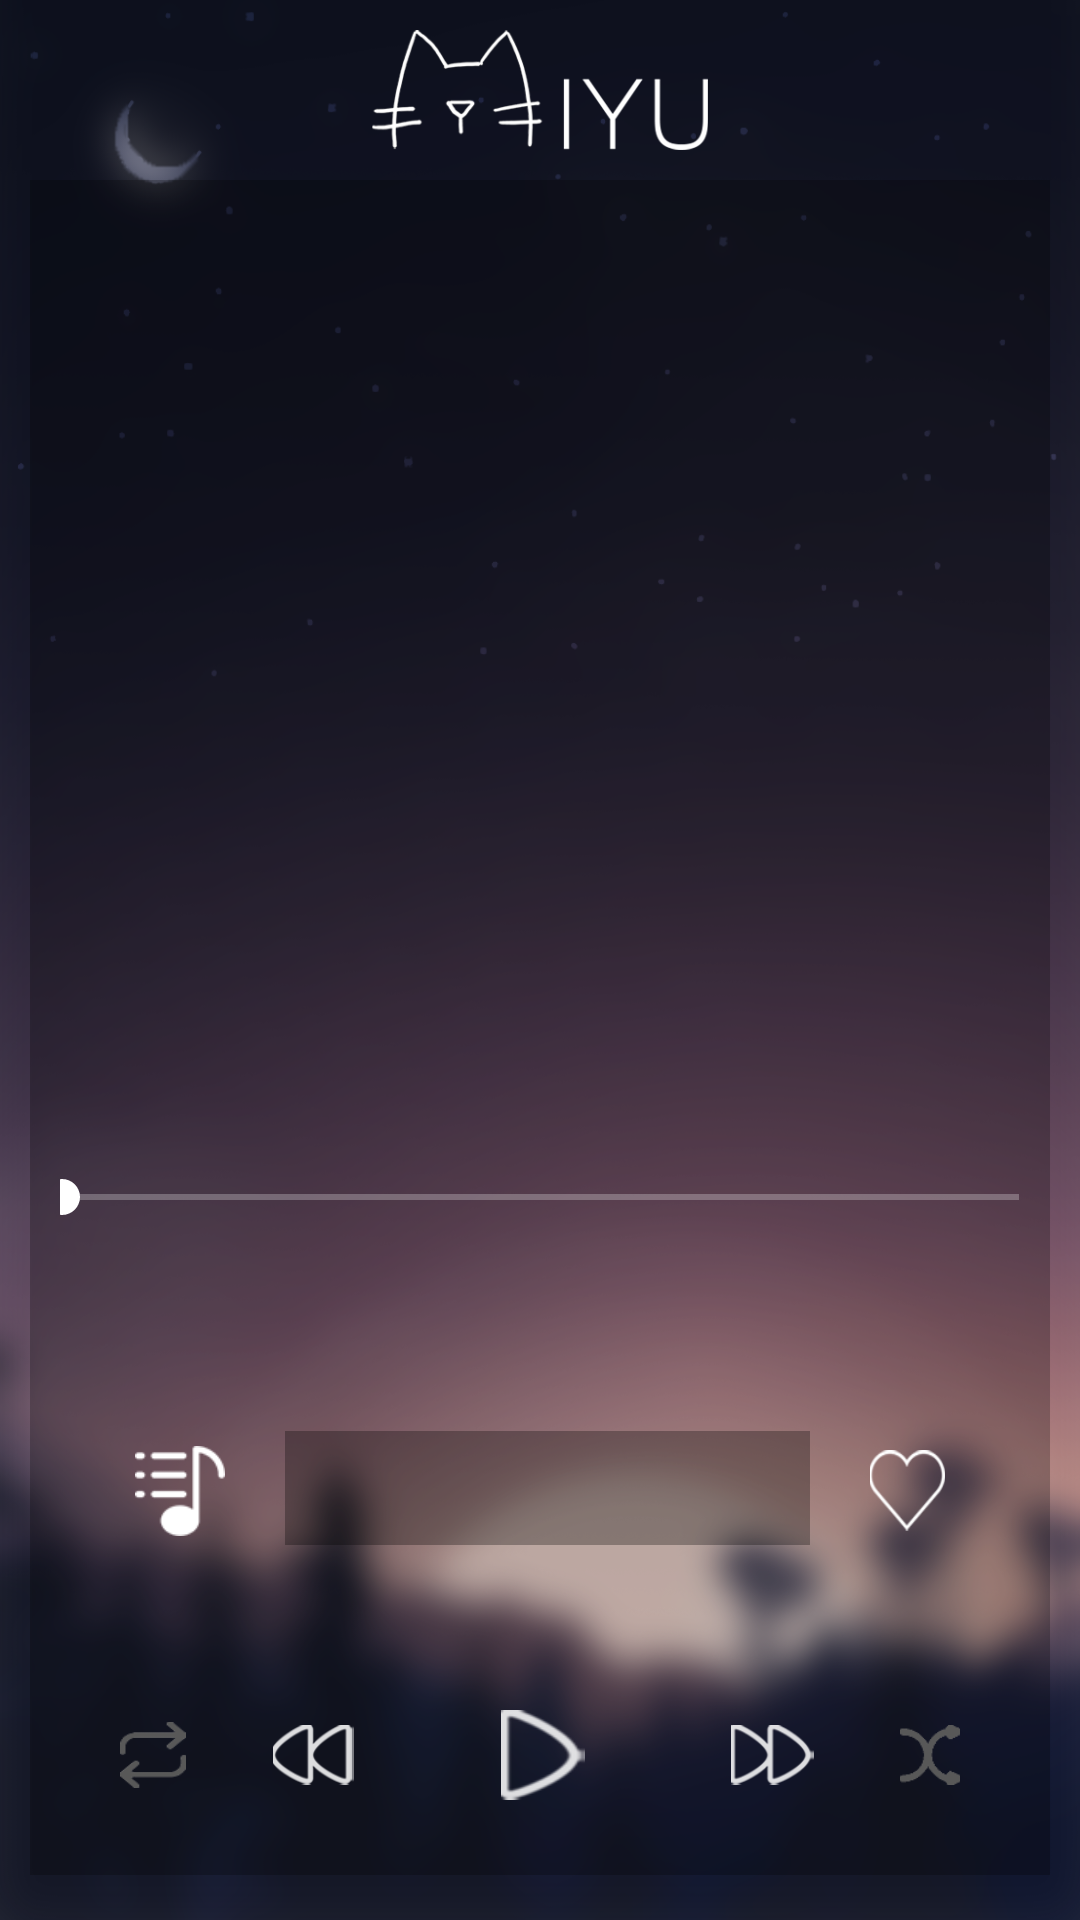

Point at icon controls on the screen. Image size 1080×1920, points as [x,y].
empty heart: [907,1490]
music list: [180,1491]
next: [772,1755]
pre btb: [313,1755]
random checked: [930,1755]
repeat checked: [153,1755]
